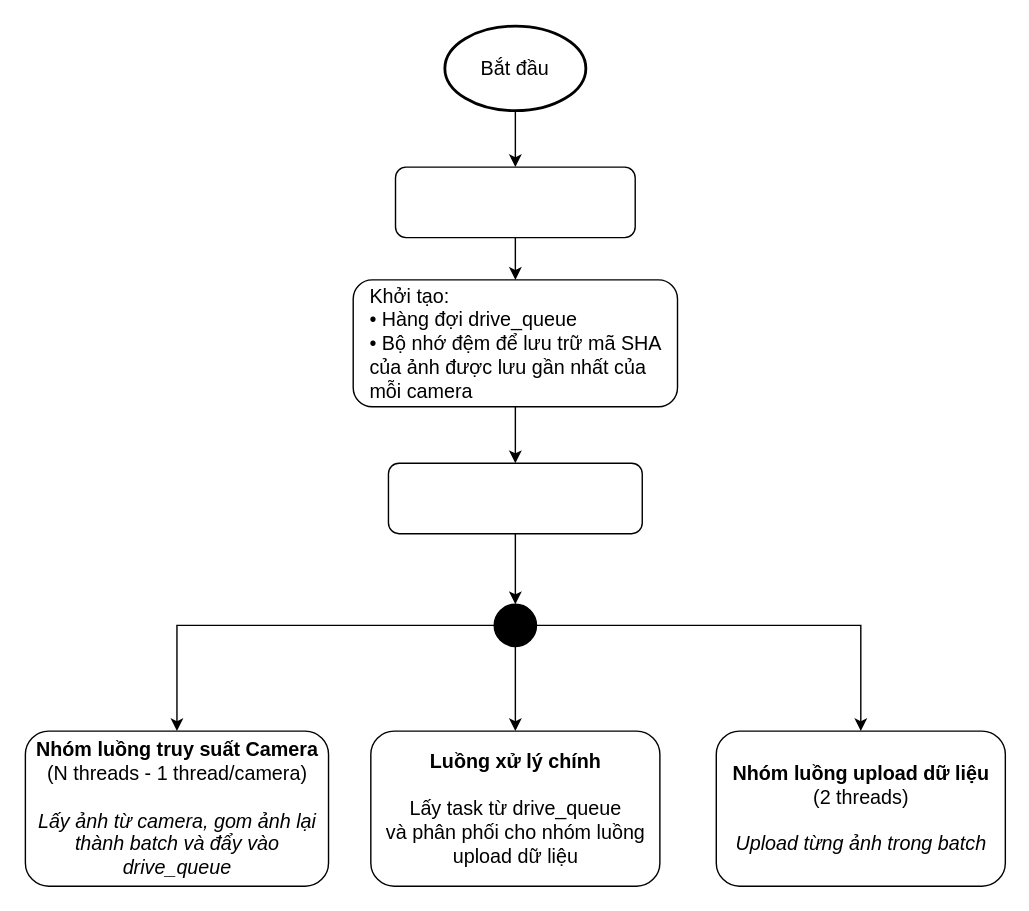
Image size: 1029x911. Some labels were removed from this diagram. Each missing label, with the box of its shape:
Kết nối Google Drive API (get_drive_service): (394, 166, 635, 238)
Thực hiện chạy đa luồng: (387, 462, 642, 534)
